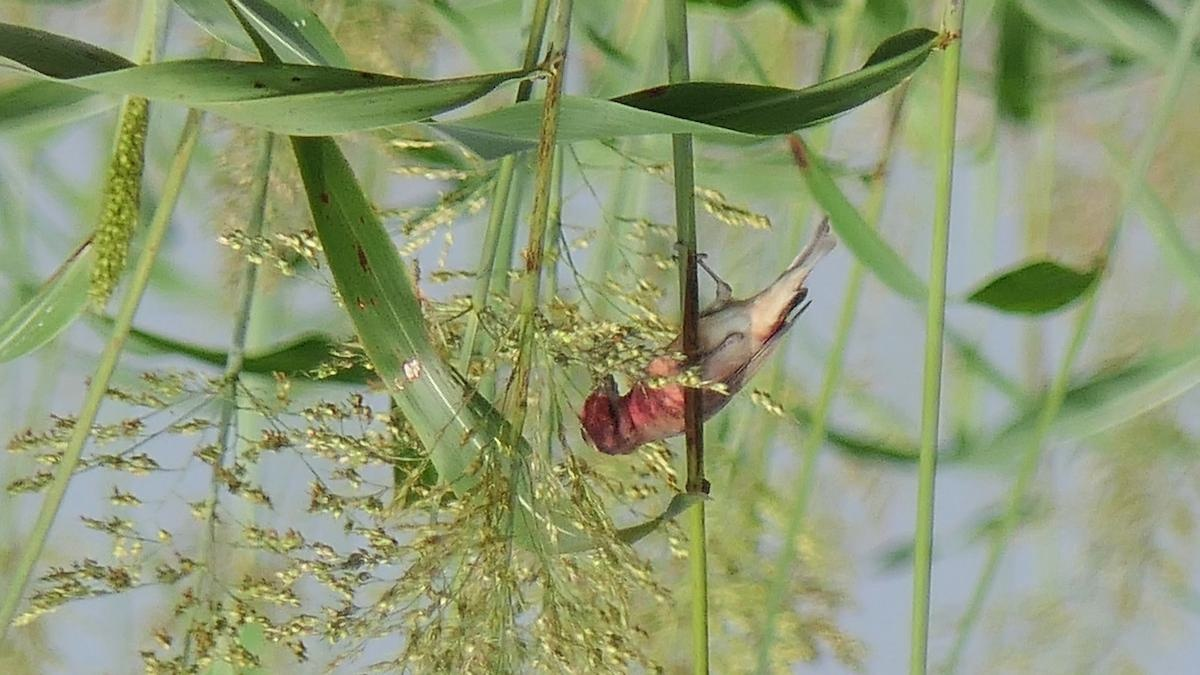rosefinch: (568, 195, 858, 473)
